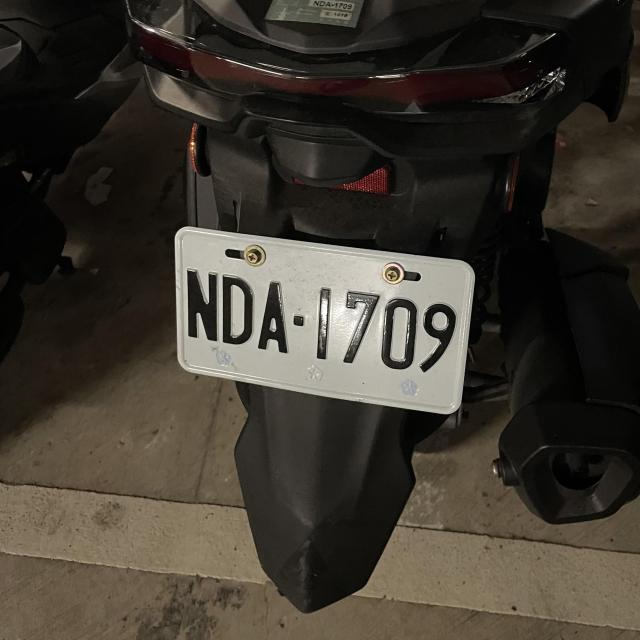W: (163, 230, 480, 414)
